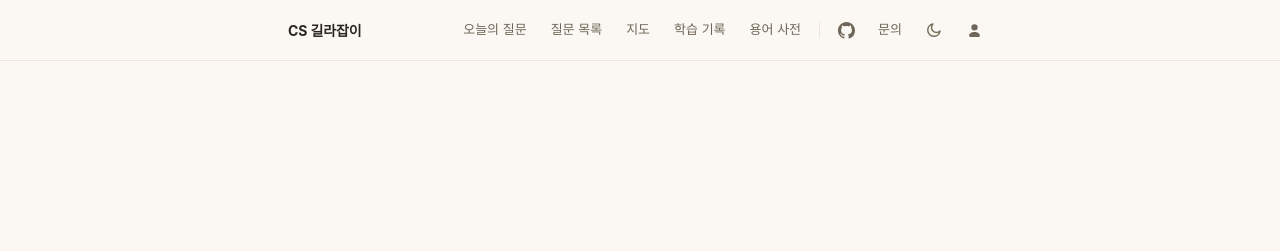
Scenario: SiteHeader · 바깥 링크 › Esc로 닫힌다
This screenshot has width=1280, height=251.
Click the button "문의" at (890, 30), box [868,7,912,53]
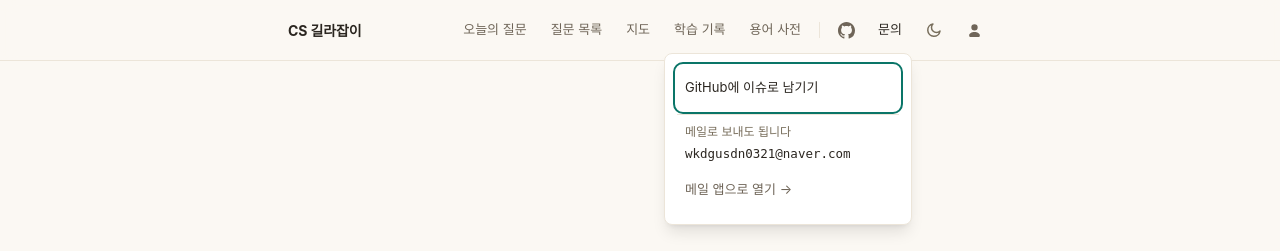
Check: the menu is shown, box [664,53,912,225]
Press Escape
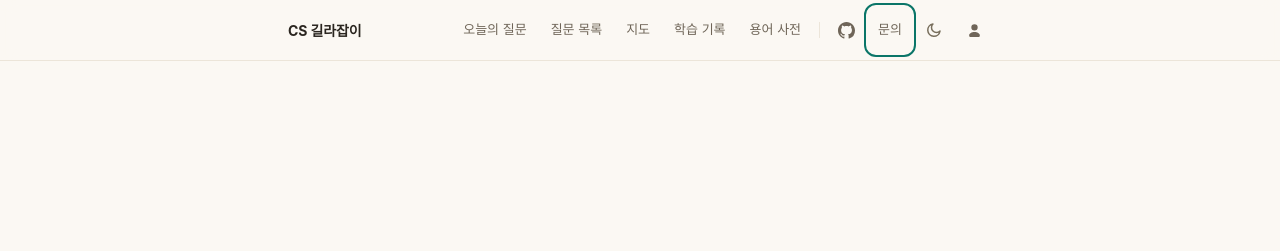
Check: the menu is gone
